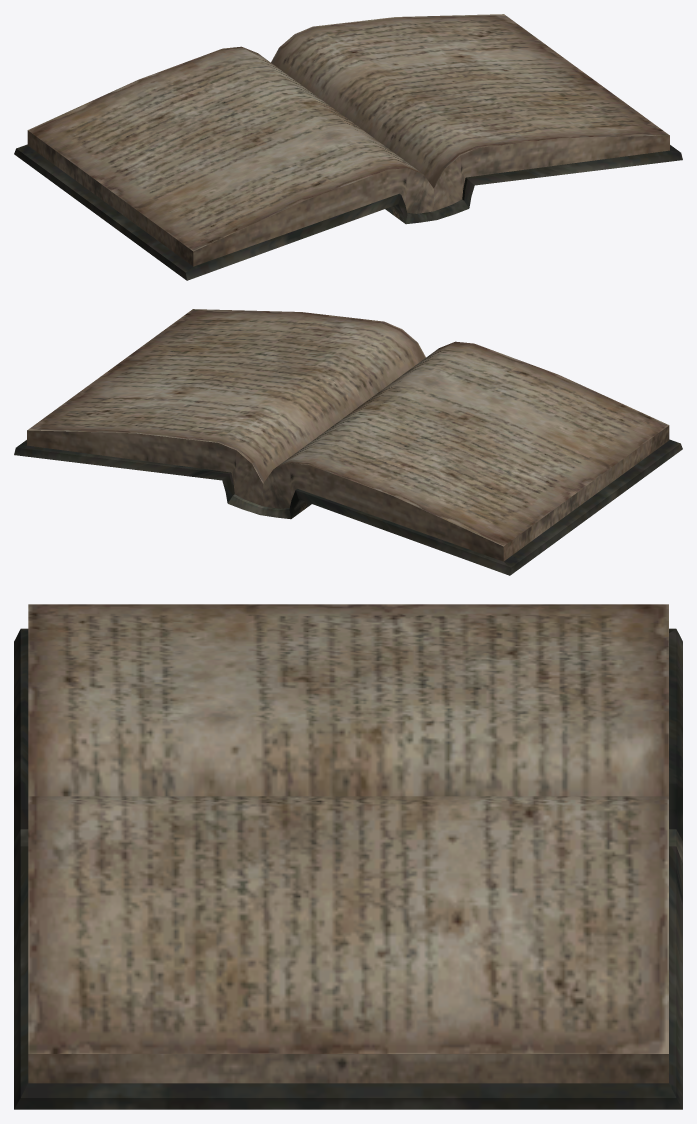
Rendered from book_open.dae.
The picture shows the model from 3 angles, top to bottom: view 1: azimuth 30°, elevation 25°; view 2: azimuth 150°, elevation 25°; view 3: azimuth 270°, elevation 25°; orthographic projection. The views are drawn at different scales.
Visible parts, largest first — view 1: pCube1; view 2: pCube1; view 3: pCube1.
Part boxes in pixels (x1=…): pCube1: x1=14, y1=14, x2=682, y2=280; pCube1: x1=14, y1=309, x2=682, y2=575; pCube1: x1=14, y1=604, x2=682, y2=1109.
Size of the model in its own units: 0.5792 by 0.0654 by 0.3501.
